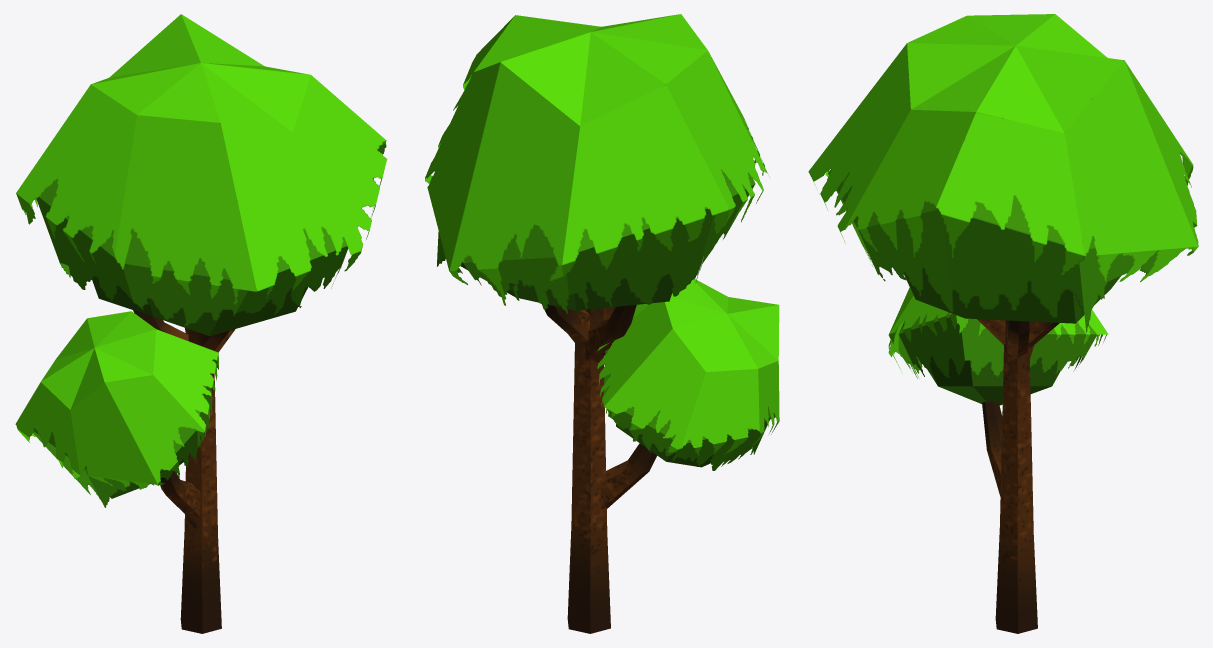
Rendered from shrub.fbx.
The picture shows the model from 3 angles, left to right: view 1: azimuth 30°, elevation 25°; view 2: azimuth 150°, elevation 25°; view 3: azimuth 270°, elevation 25°; orthographic projection. The views are drawn at different scales.
Parts seen in each view (by area): view 1: shrub; view 2: shrub; view 3: shrub.
Part boxes in pixels (<box>): shrub: <box>15,14,386,633</box>; shrub: <box>425,14,779,633</box>; shrub: <box>808,14,1198,633</box>.
Bounding box in the file's own units: 116 × 193 × 118.
Materials: 1 (1 with a texture image).
